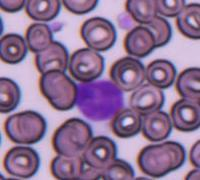L: (75, 78, 126, 122)
